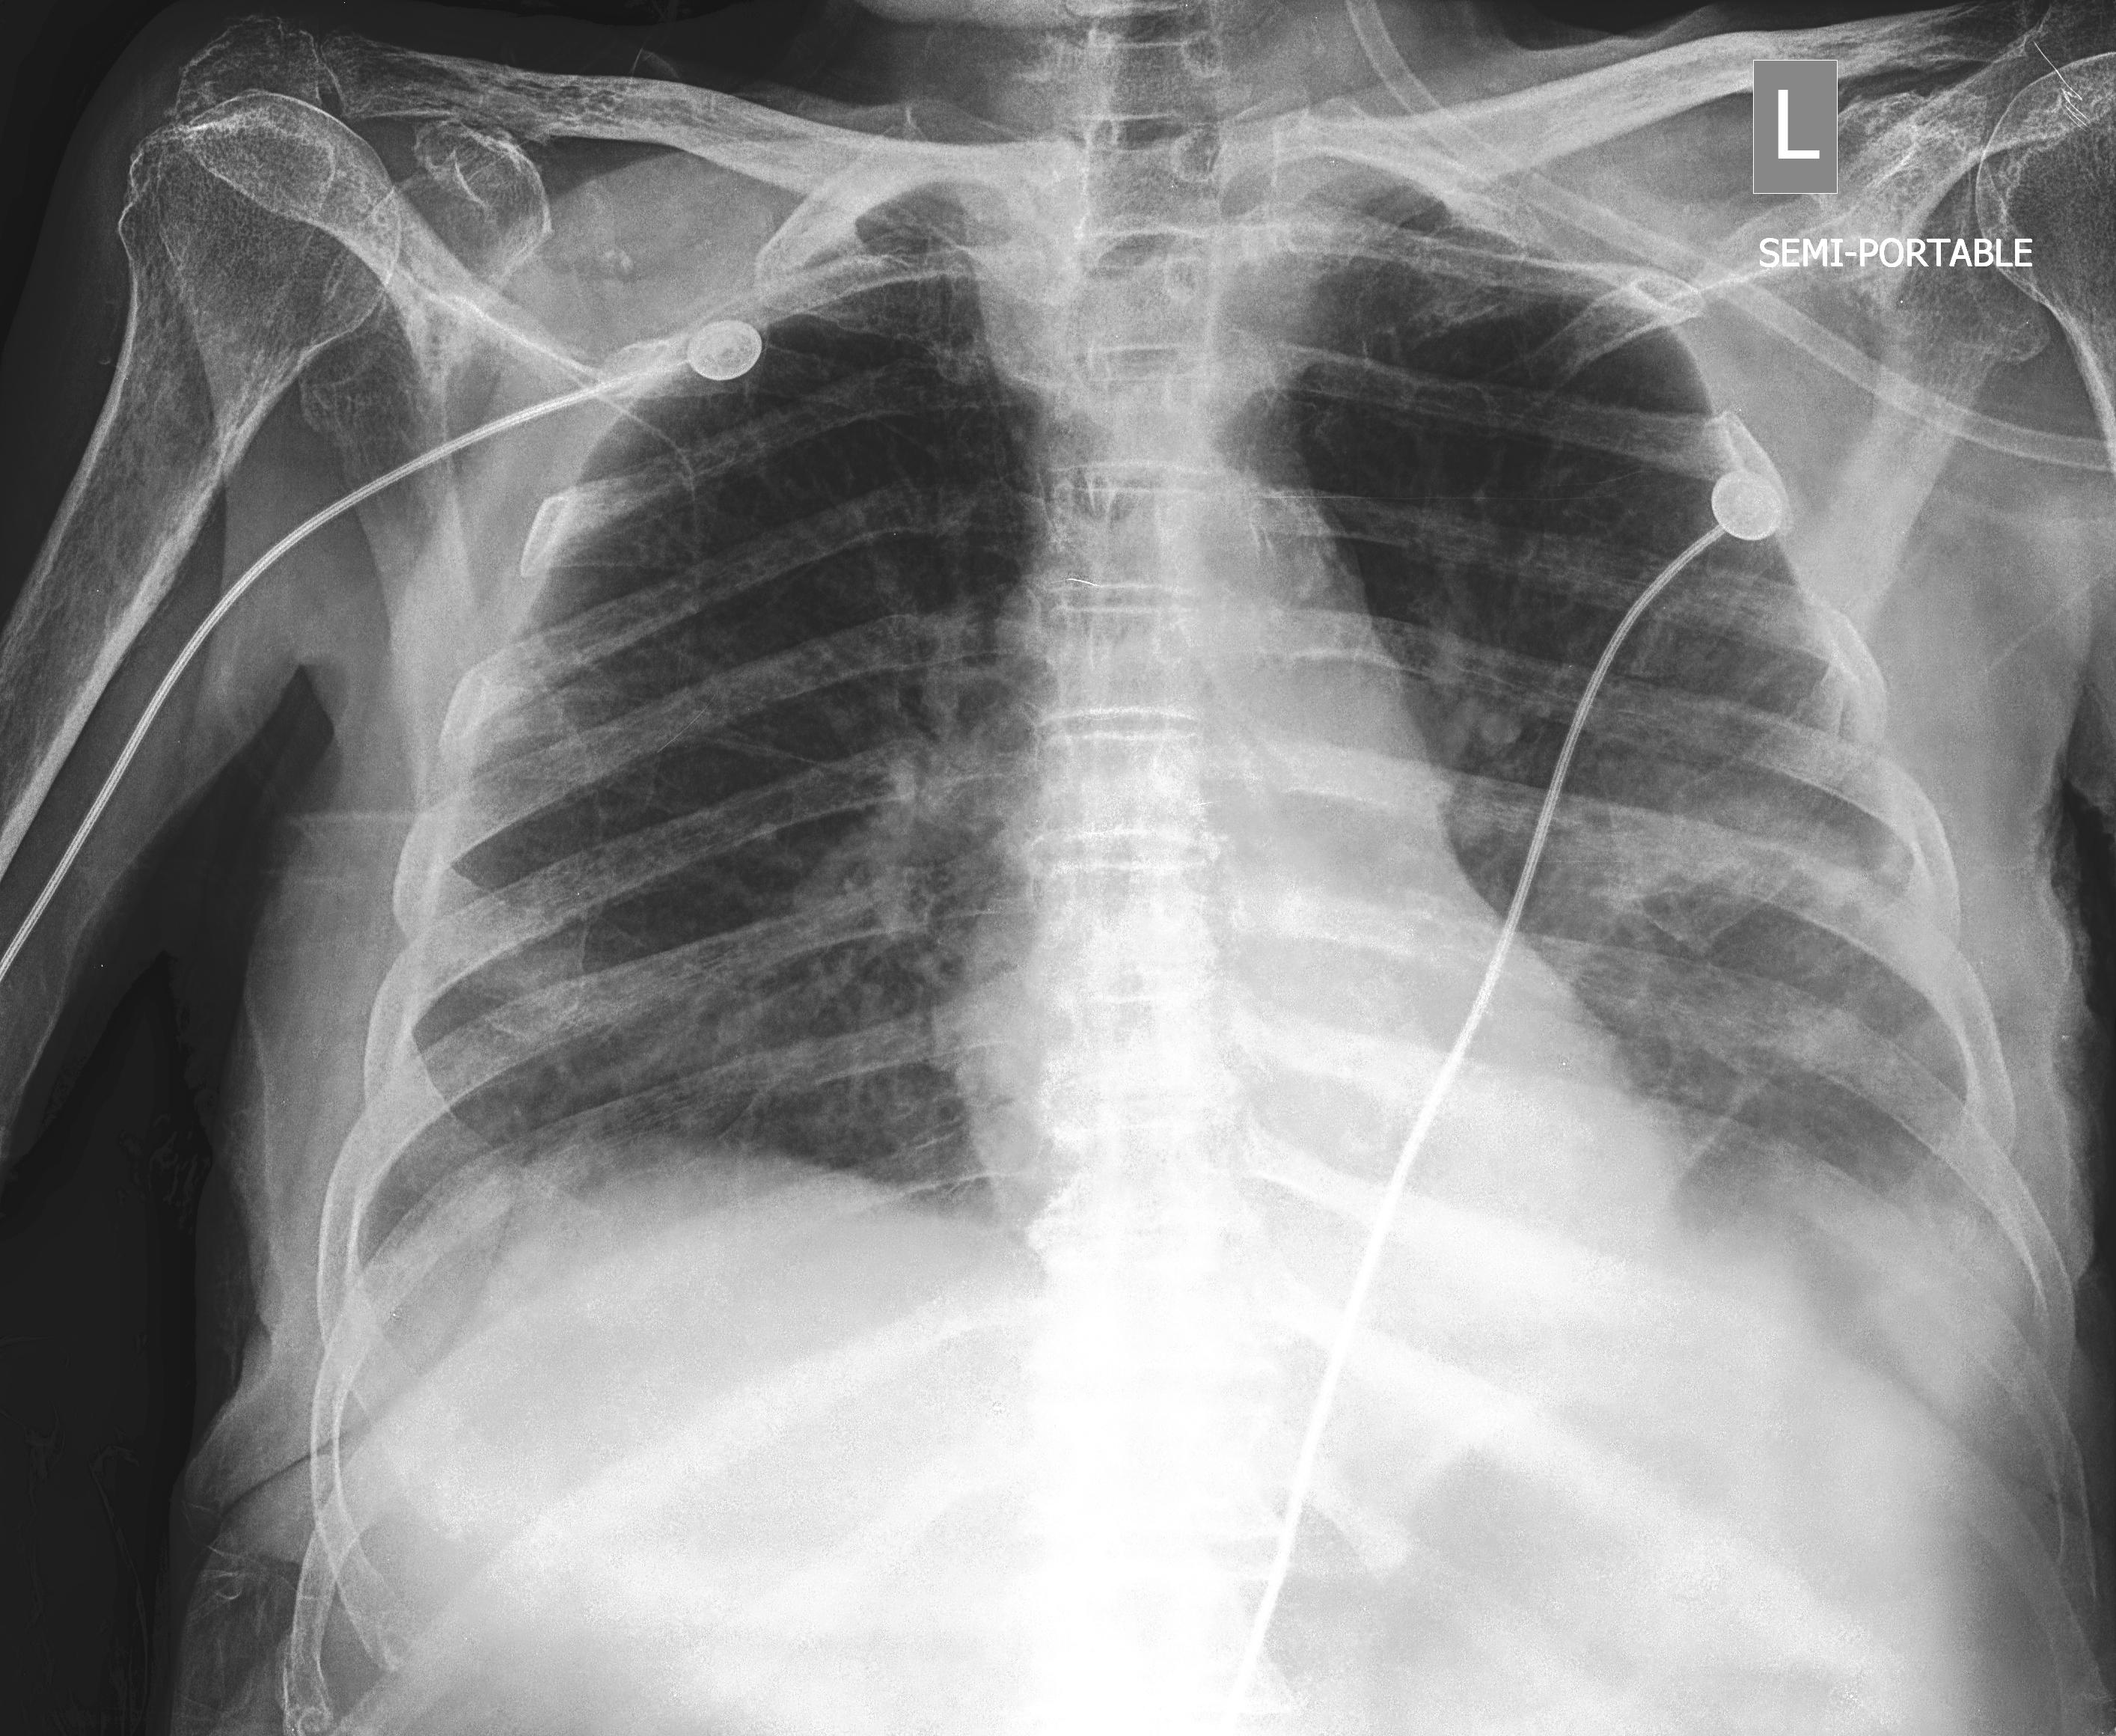Pleural Effusion: (1687, 1121, 2084, 1655)
